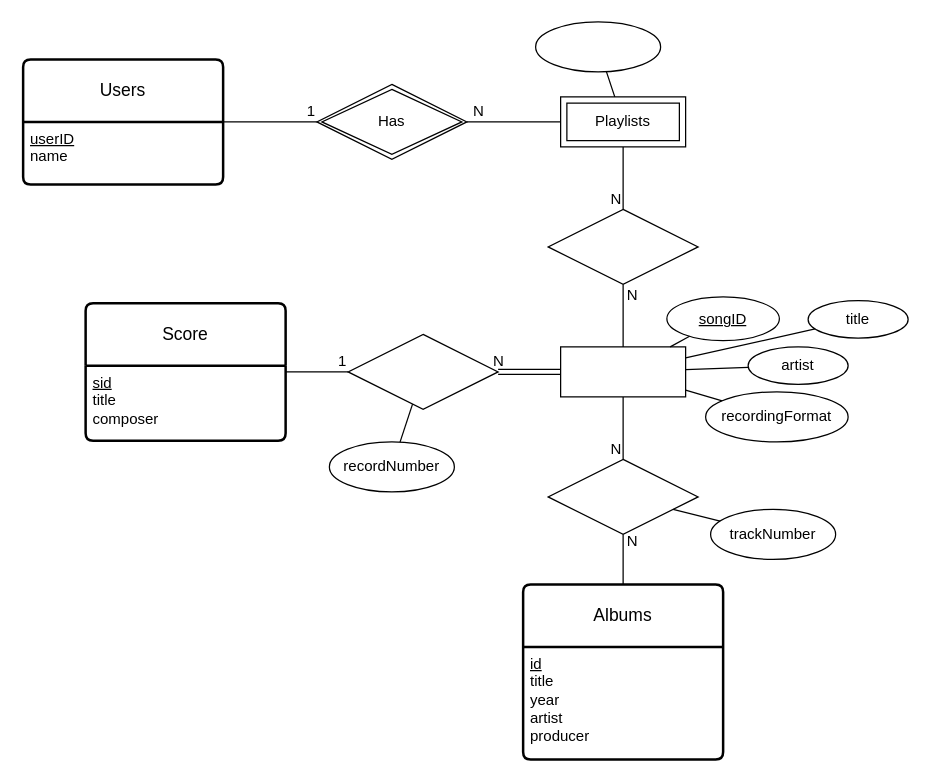
Some shapes in this 930 by 783 pixel diagram are drawn without their labels. Here are the shapes that lost their labels. From the top down, the centre of each, then its label:
the point at 597,46: playlist_name
the point at 622,246: Contains/In
the point at 422,371: Records
the point at 622,371: Songs
the point at 622,496: In/Contains
